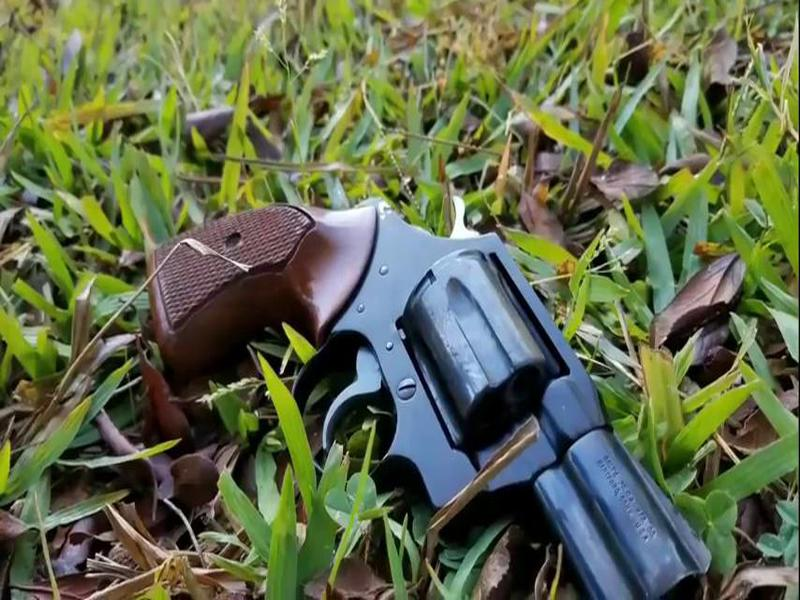Revolver: (148, 172, 705, 583)
